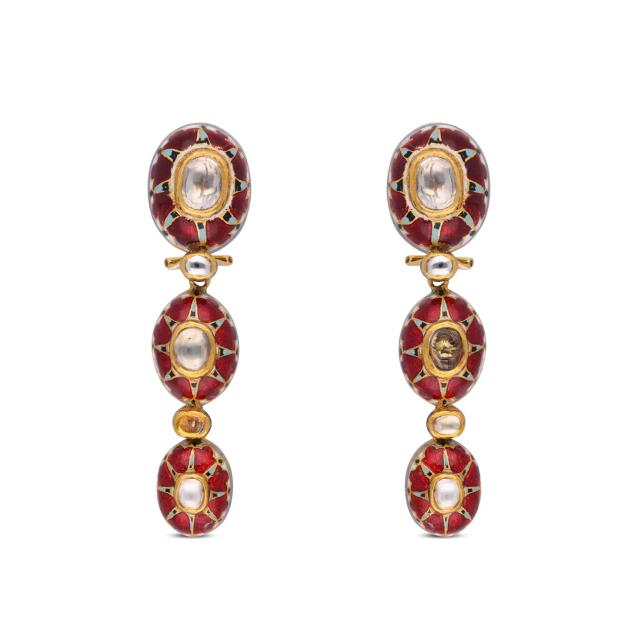missing gem: (428, 327, 462, 371), (177, 416, 204, 432)
